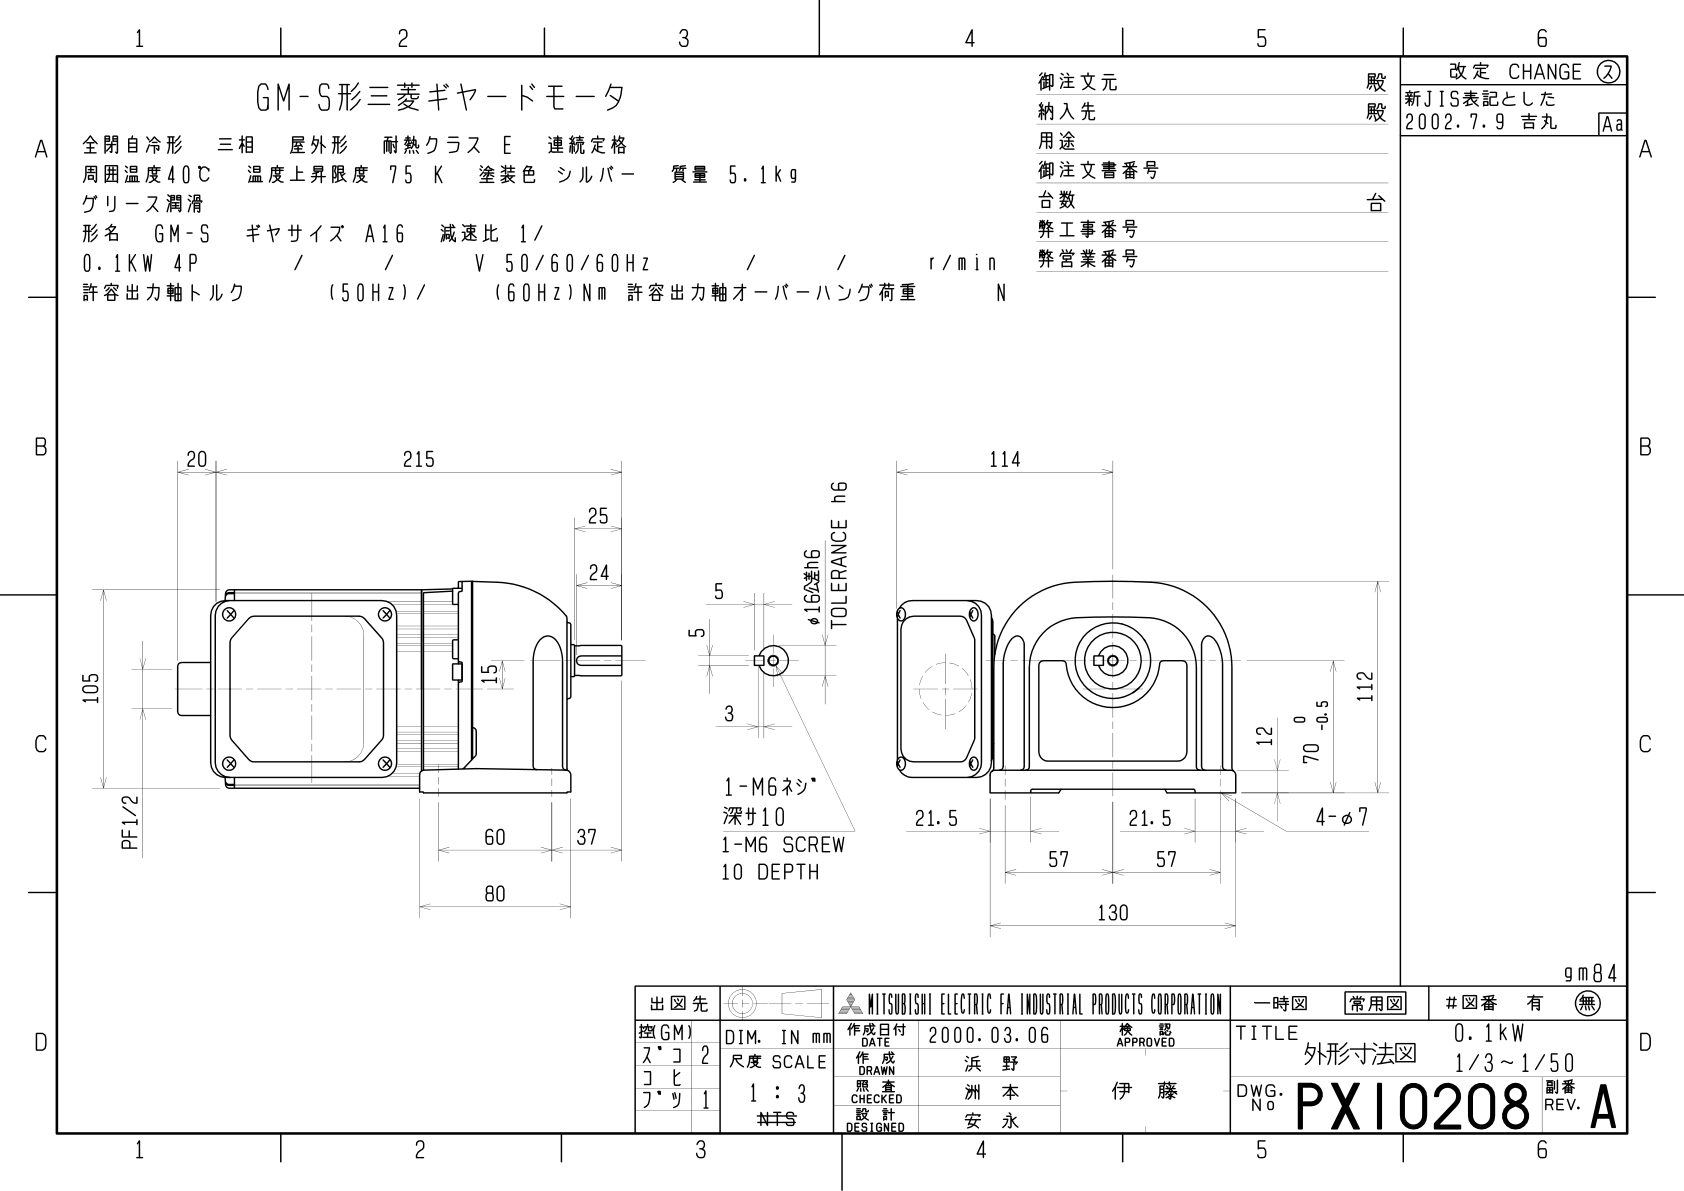GM_S_屋外＿三相_脚: (73, 403, 1397, 971)
